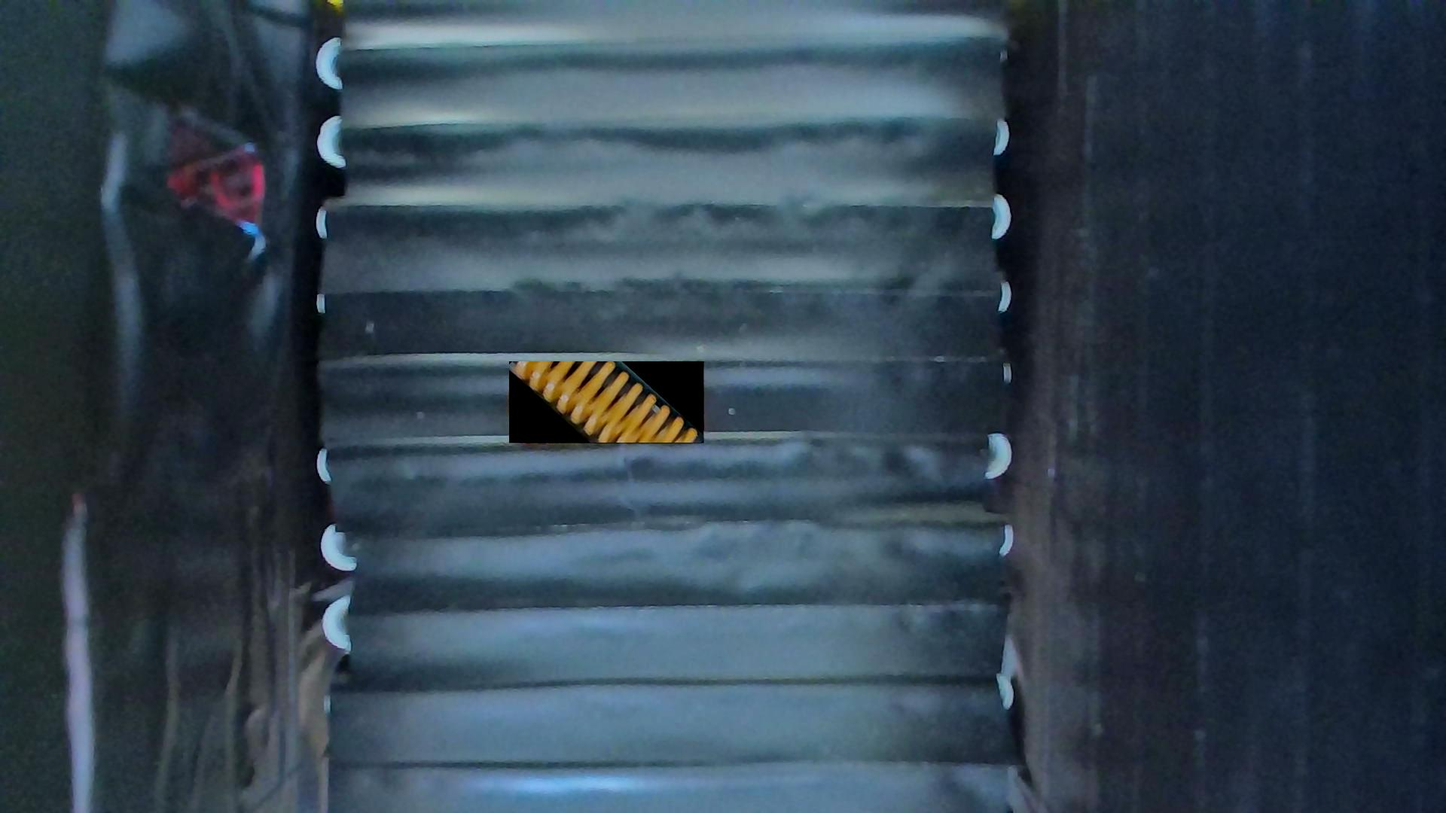spring: (510, 362, 705, 444)
